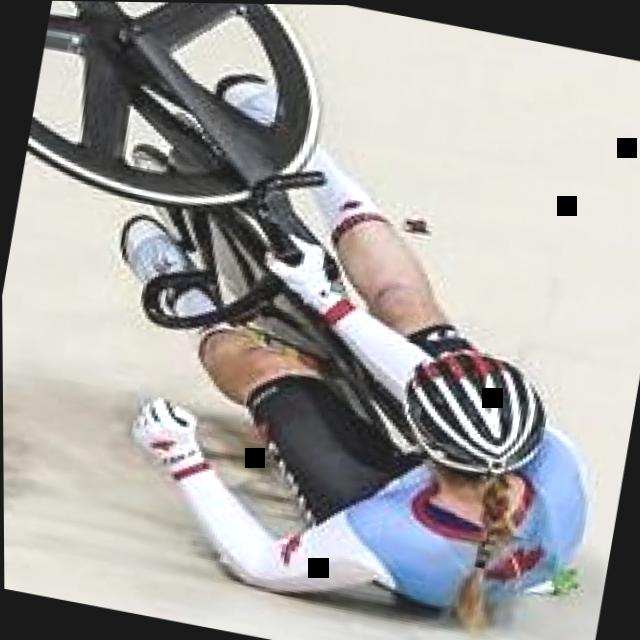Fall-Detected: (44, 52, 640, 640)
